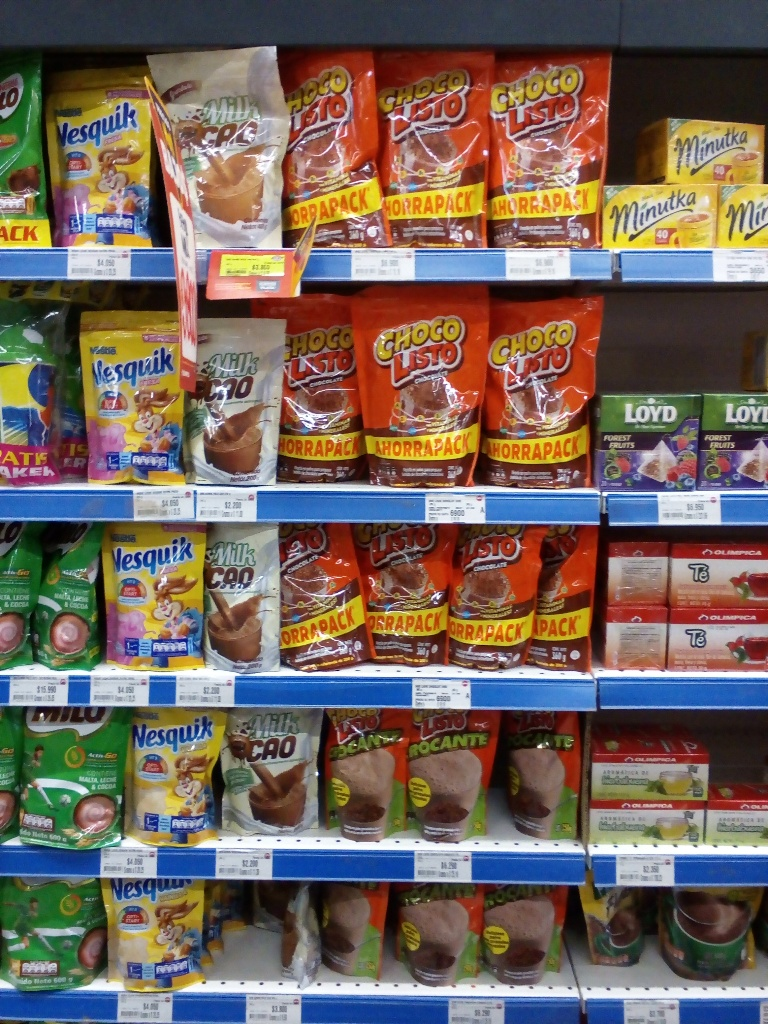COL0170102DYP25000: (319, 710, 412, 848)
COL0170103DYP36000: (262, 53, 387, 249)
COL0170305DYP20000: (37, 65, 159, 248)
COL0170306DYP20000: (125, 702, 220, 847)
